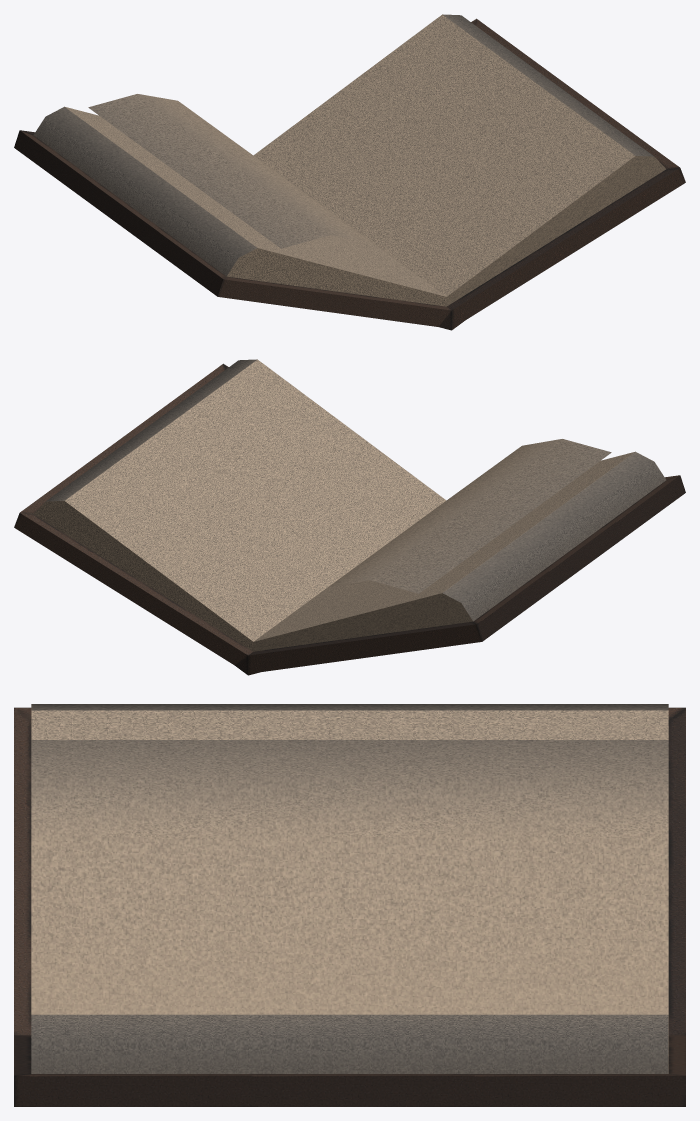
The model's file is dddd.fbx.
The picture shows the model from 3 angles, top to bottom: view 1: azimuth 30°, elevation 25°; view 2: azimuth 150°, elevation 25°; view 3: azimuth 270°, elevation 25°; orthographic projection. The views are drawn at different scales.
Parts seen in each view (by area): view 1: Plane001; view 2: Plane001; view 3: Plane001.
Part boxes in pixels (<box>): Plane001: <box>14,14,685,330</box>; Plane001: <box>14,359,685,675</box>; Plane001: <box>14,704,685,1106</box>.
Bounding box in the file's own units: 43.47 × 11.06 × 32.75.
1 material, 1 textured.
